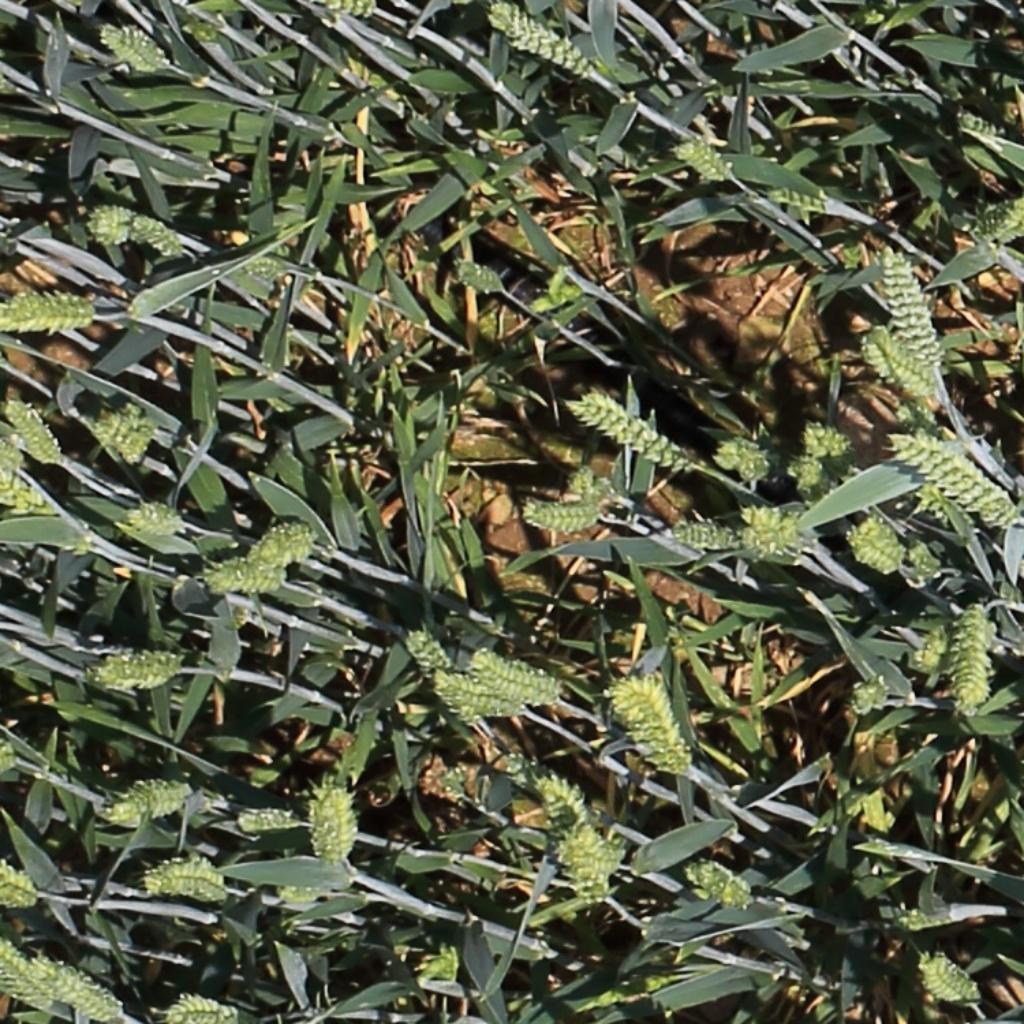0-0: (881, 429, 1024, 530), (532, 773, 614, 904), (563, 398, 696, 472), (873, 239, 946, 370), (608, 671, 698, 776), (584, 388, 699, 462), (402, 624, 485, 725), (487, 5, 592, 80), (31, 950, 130, 1021), (855, 323, 941, 398), (466, 645, 565, 706), (951, 600, 995, 714), (141, 852, 238, 903), (3, 391, 67, 467), (429, 666, 528, 715), (308, 776, 363, 863), (94, 778, 197, 824), (0, 291, 101, 337), (82, 650, 186, 694), (680, 857, 759, 911), (738, 501, 813, 557), (1, 935, 56, 1011), (242, 518, 322, 570), (97, 398, 162, 461), (557, 824, 627, 880), (0, 466, 65, 520), (917, 952, 983, 1005), (197, 557, 289, 595), (519, 495, 606, 535), (164, 990, 265, 1024), (96, 20, 159, 74), (794, 412, 858, 463), (669, 136, 735, 185), (713, 432, 774, 483), (660, 516, 743, 553), (560, 461, 621, 509), (116, 498, 188, 538), (846, 521, 905, 569), (119, 18, 172, 70), (979, 193, 1024, 254), (913, 617, 961, 674), (785, 452, 836, 505), (80, 201, 139, 246), (504, 746, 558, 794), (131, 216, 188, 261), (843, 673, 901, 717), (763, 182, 836, 216), (414, 943, 464, 989), (0, 854, 43, 907), (891, 396, 942, 438), (235, 805, 303, 834), (273, 878, 339, 904), (903, 539, 942, 582), (451, 258, 502, 290), (236, 254, 296, 280), (319, 0, 383, 20), (1, 437, 27, 476), (0, 736, 23, 777)
